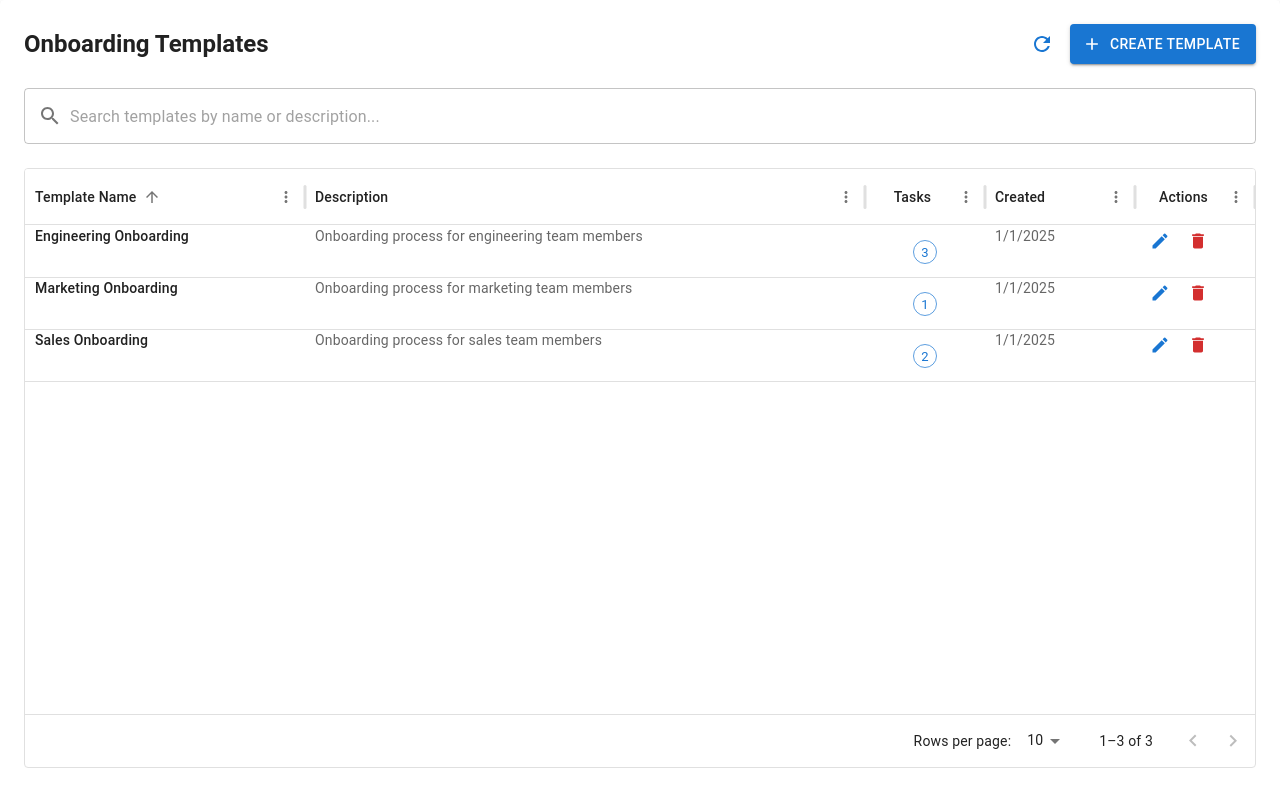
Test: TemplateList Component › Search Functionality › filters templates by name
Check: the text "Engineering Onboarding" is shown, box [35,228,189,244]
Type in search box
Type "Engineering" into the field with placeholder "Search templates by name or description..." at (663, 116), box [70,88,1256,144]
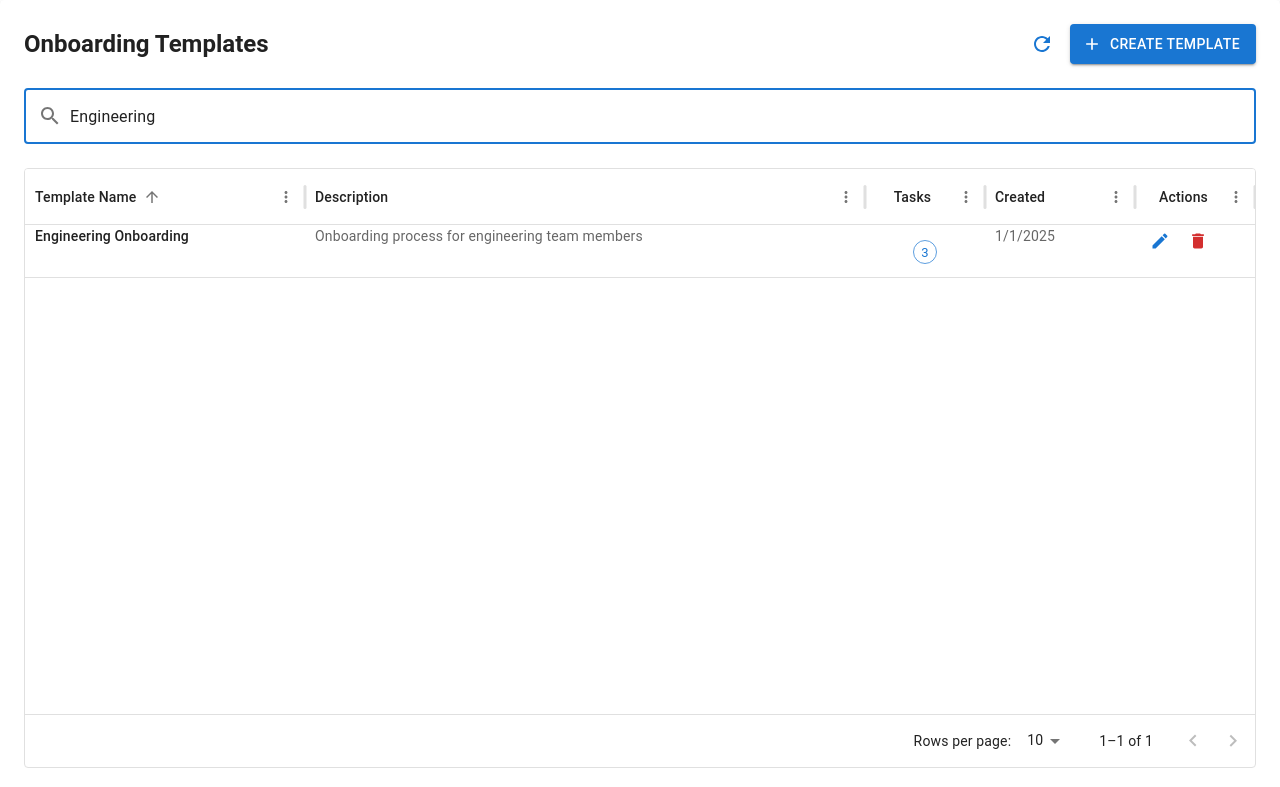
Check: the text "Engineering Onboarding" is shown, box [35,228,189,244]
Check: the text "Sales Onboarding" is gone
Check: the text "Marketing Onboarding" is gone
